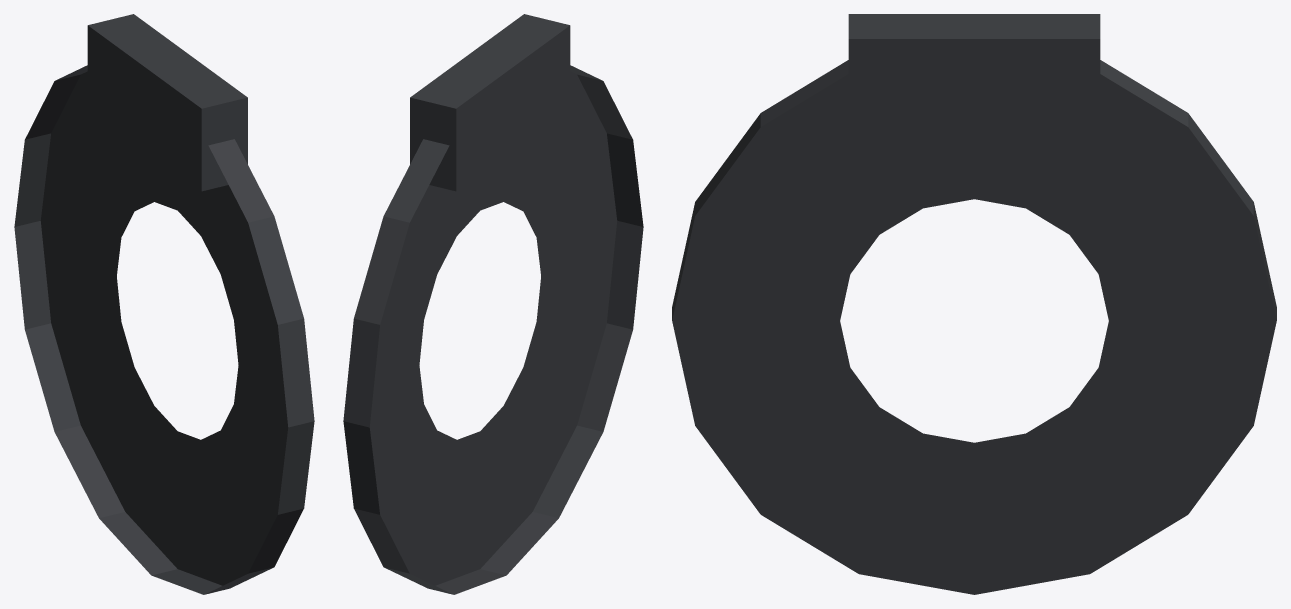
Rendered from brake_05_heavy_commercial.obj.
3 views of the same model, side by side, from view 1: azimuth 30°, elevation 25°; view 2: azimuth 150°, elevation 25°; view 3: azimuth 270°, elevation 25° (orthographic). The views are drawn at different scales.
Visible parts, largest first — view 1: brake_05_heavy_commercial; view 2: brake_05_heavy_commercial; view 3: brake_05_heavy_commercial.
Boxes of the visible parts, bbox=[...] form: brake_05_heavy_commercial: bbox=[14, 14, 314, 594]; brake_05_heavy_commercial: bbox=[343, 14, 643, 594]; brake_05_heavy_commercial: bbox=[672, 14, 1276, 594].
Size of the model in its own units: 0.0437 by 0.4625 by 0.45.
